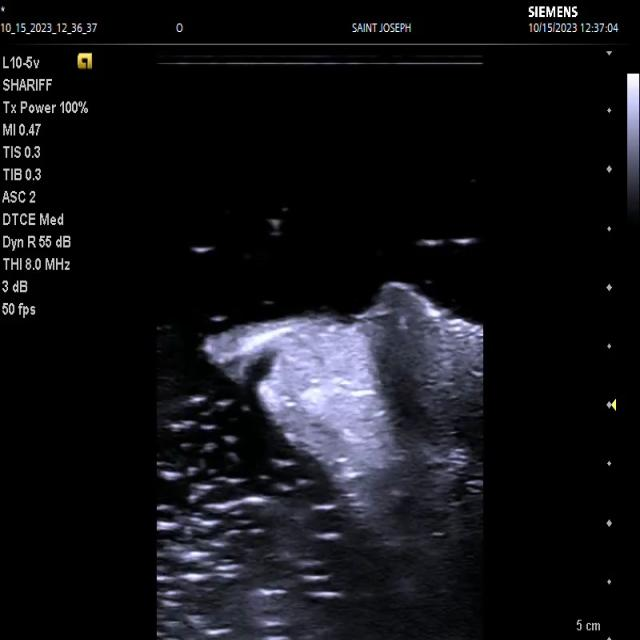tissue: (200, 284, 485, 640)
